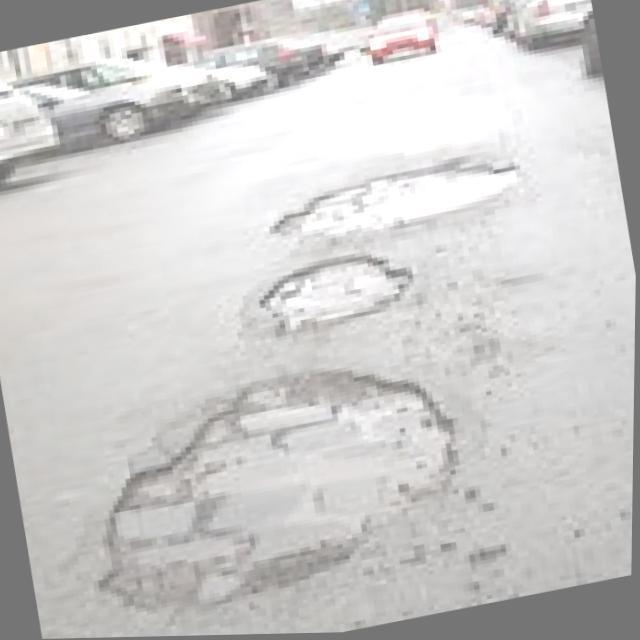Pothole: (106, 368, 459, 613), (277, 168, 522, 238), (261, 256, 413, 334)
